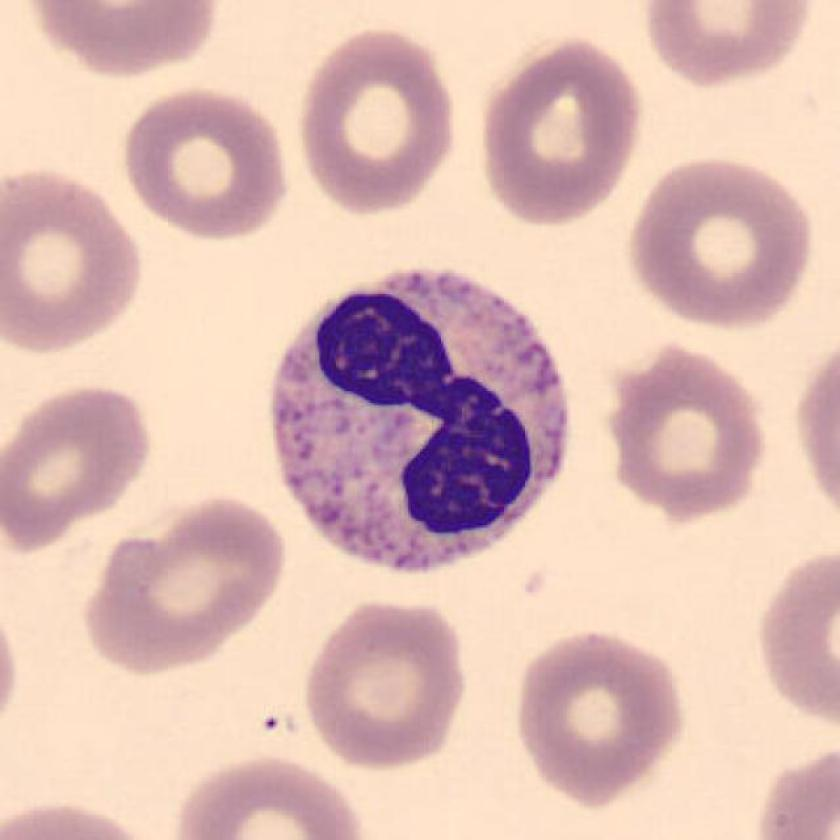neutrophil: (271, 272, 568, 571)
